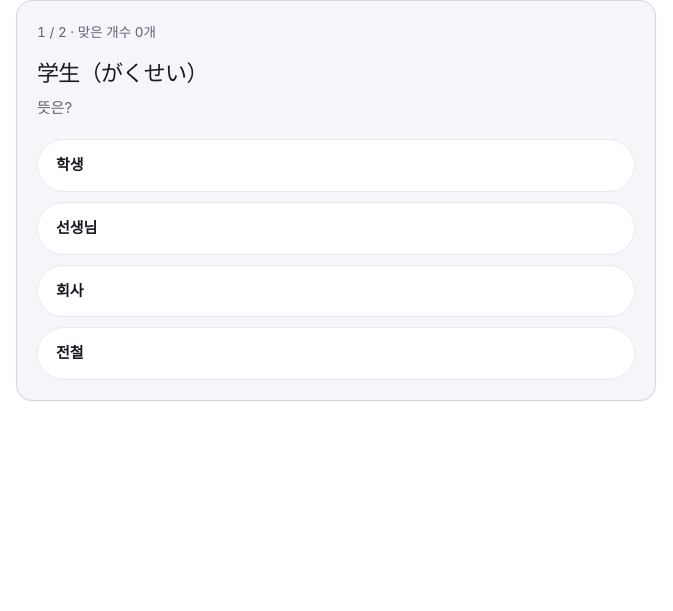
Test: 문제 화면 (Q9~Q12) › 보기를 누르면 즉시 채점되고 근거가 펼쳐진다 (Q9·Q11)
Click the button "학생". click: (70, 165)
box: [37,139,635,192]
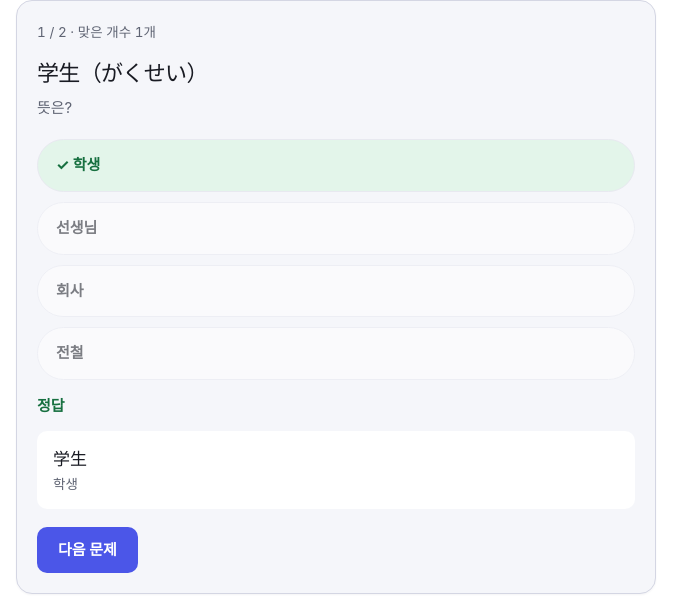
expect the text "学生（がくせい）" is shown: met, box [37,60,208,86]
expect the text "정답" is shown: met, box [37,396,65,415]
